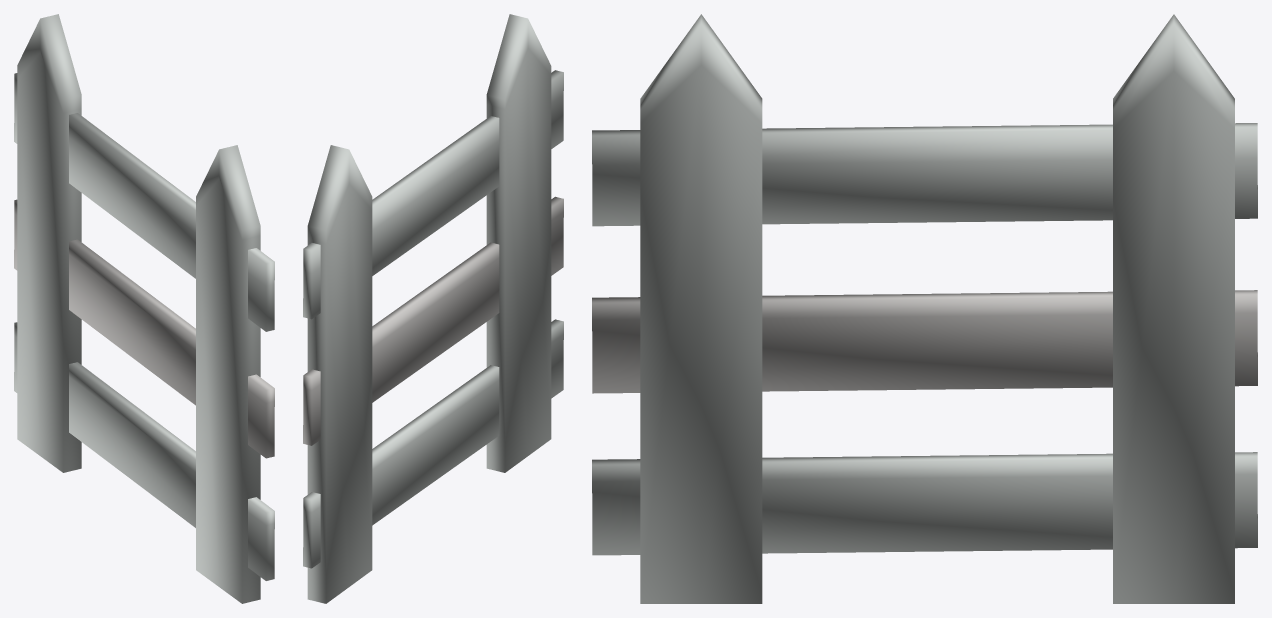
File: FencePicketSmall_02.glb
3 views of the same model, side by side, from view 1: azimuth 30°, elevation 25°; view 2: azimuth 150°, elevation 25°; view 3: azimuth 270°, elevation 25° (orthographic). The views are drawn at different scales.
Parts seen in each view (by area): view 1: FencePicketSmall_02; view 2: FencePicketSmall_02; view 3: FencePicketSmall_02.
Part boxes in pixels (x1,y1,x2,y2): FencePicketSmall_02: [14, 14, 274, 603]; FencePicketSmall_02: [303, 14, 563, 603]; FencePicketSmall_02: [592, 14, 1257, 603].
Size of what is drawn, in the model's own units: 0.0534 by 1.21 by 1.26.
Materials: 1 (1 with a texture image).
